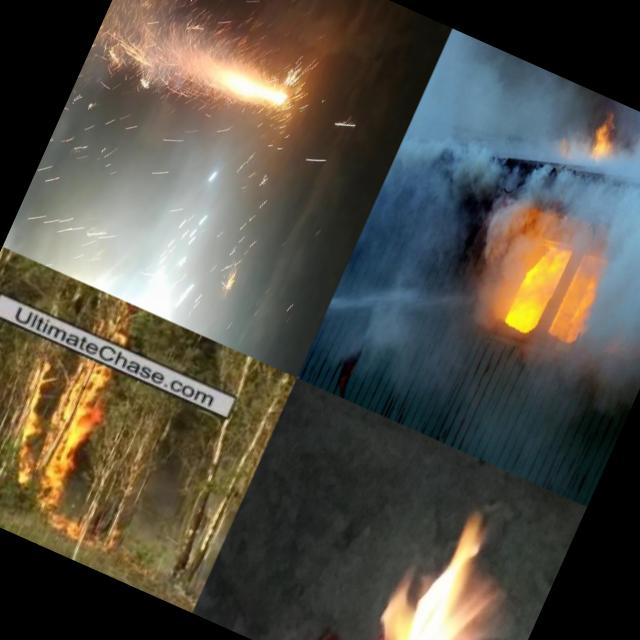fire: (348, 494, 566, 640), (0, 338, 118, 524), (491, 218, 621, 368), (2, 172, 58, 257), (583, 103, 632, 173)
smoke: (374, 89, 574, 272), (549, 123, 640, 419)
